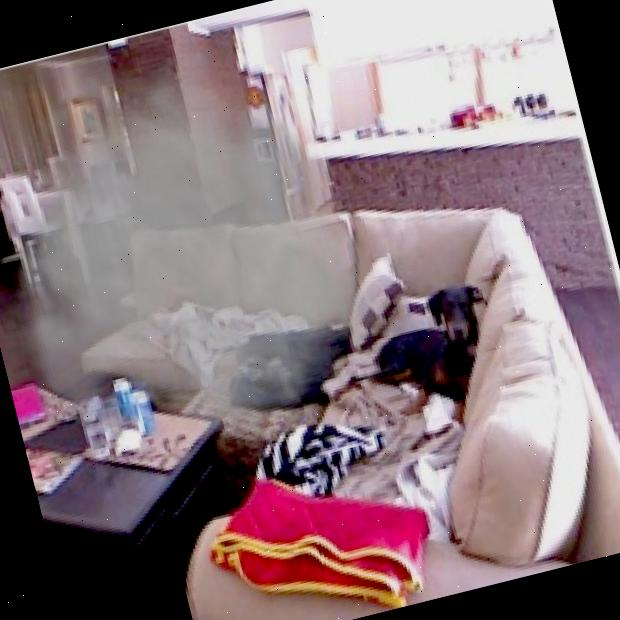smoke: (0, 5, 408, 501)
